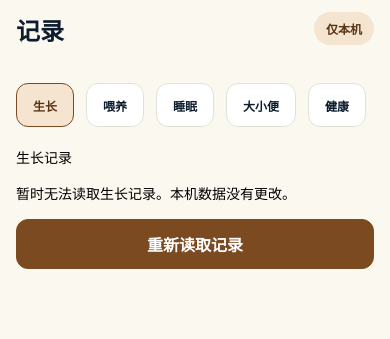
Test: list read failure with no committed rows offers only read retry
Check: the message reads "暂时无法读取生长记录。本机数据没有更改。", box top-left (16, 185), bottom-right (296, 202)
Click the button "重新读取记录" at {"x": 195, "y": 244}, box top-left (16, 219), bottom-right (374, 269)
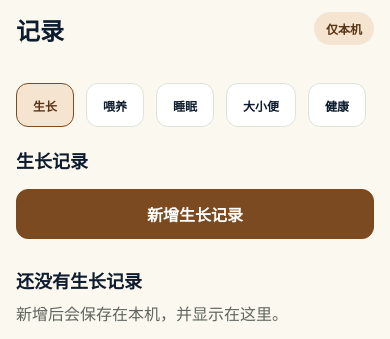
Check: the heading "还没有生长记录" is shown, box top-left (16, 271), bottom-right (142, 292)
